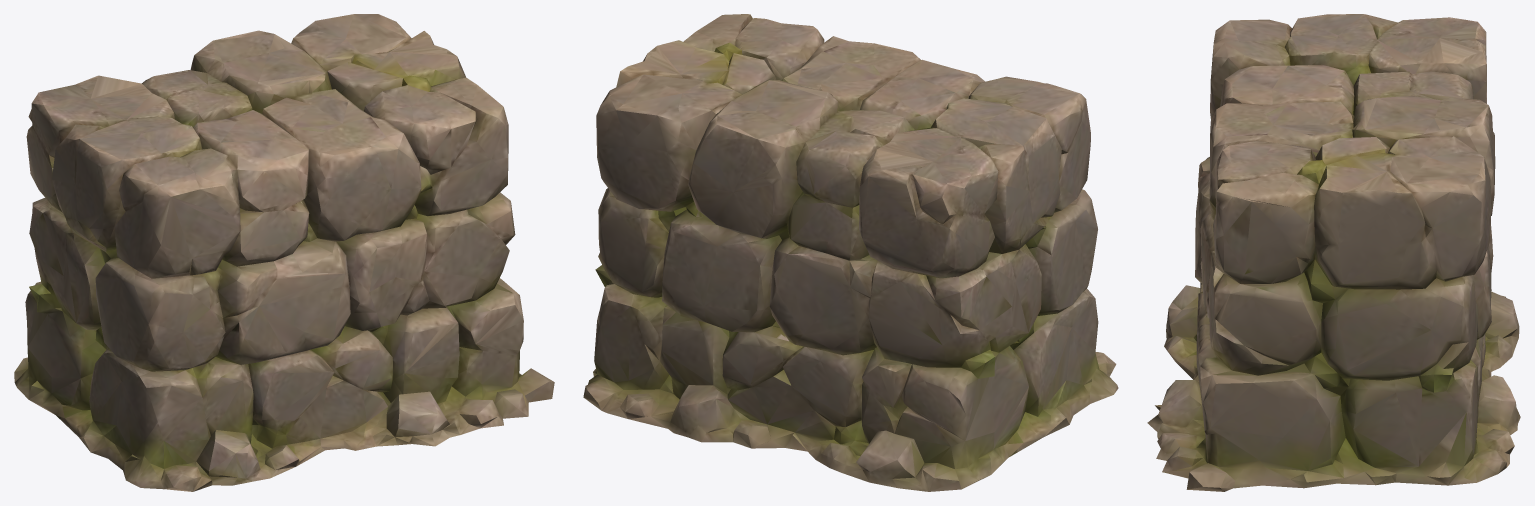
The model's file is muro_agrietado.glb.
3 renders of one model, left to right at view 1: azimuth 30°, elevation 25°; view 2: azimuth 150°, elevation 25°; view 3: azimuth 270°, elevation 25°, orthographic. The views are drawn at different scales.
Visible parts, largest first — view 1: muro_agrietado_malla; view 2: muro_agrietado_malla; view 3: muro_agrietado_malla.
Boxes of the visible parts, <box> form: muro_agrietado_malla: <box>14,14,554,491</box>; muro_agrietado_malla: <box>583,14,1118,491</box>; muro_agrietado_malla: <box>1147,14,1520,491</box>.
Bounding box in the file's own units: 0.4628 × 0.3147 × 0.3605.
1 material, 1 textured.
